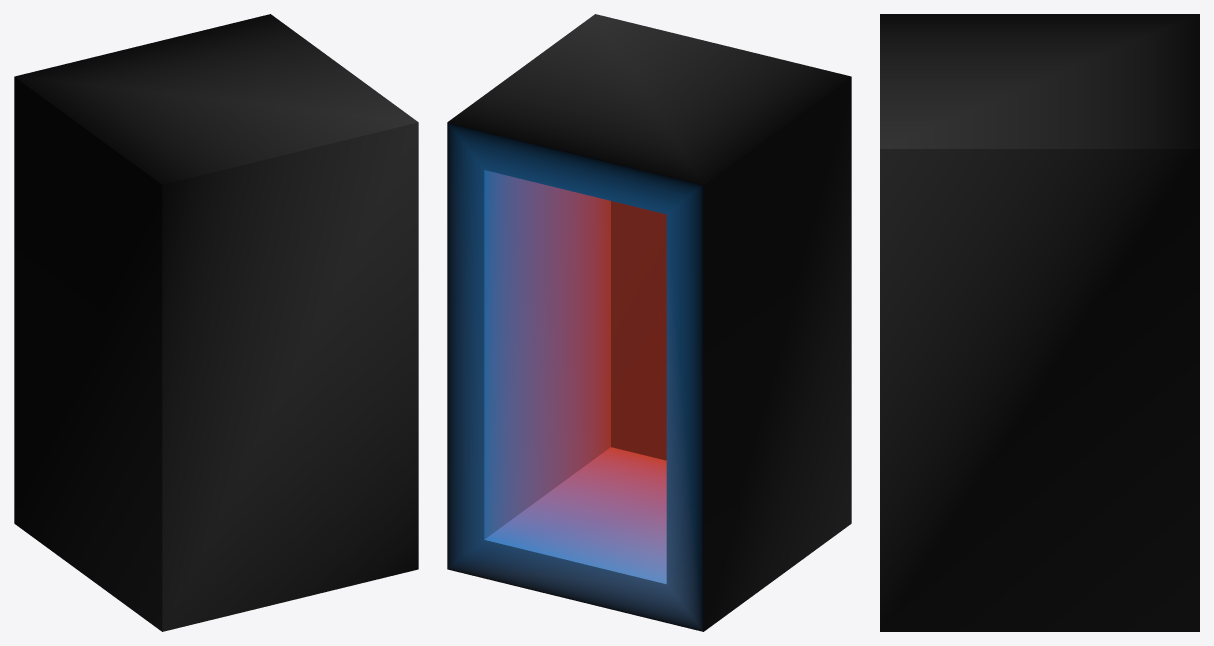
The model's file is Pool.fbx.
3 renders of one model, left to right at view 1: azimuth 30°, elevation 25°; view 2: azimuth 150°, elevation 25°; view 3: azimuth 270°, elevation 25°, orthographic. The views are drawn at different scales.
Visible parts, largest first — view 1: Cube; view 2: Cube; view 3: Cube.
Boxes of the visible parts, x1=… form: Cube: x1=14, y1=14, x2=418, y2=631; Cube: x1=447, y1=14, x2=851, y2=631; Cube: x1=880, y1=14, x2=1199, y2=631.
Bounding box in the file's own units: 12 × 20 × 12.
